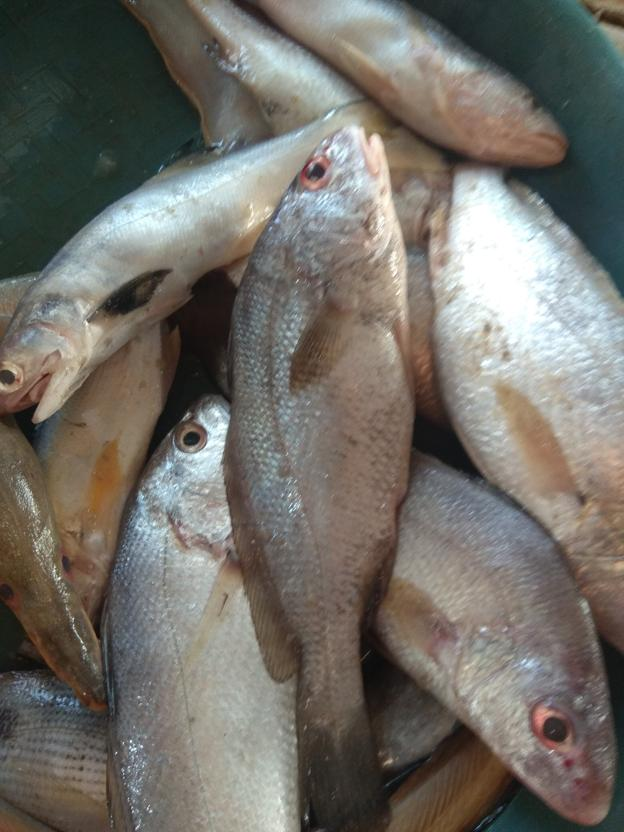Fish head: (453, 624, 616, 826), (245, 125, 408, 283), (136, 393, 239, 556), (449, 65, 573, 168)
Fish tail: (293, 708, 386, 831)
